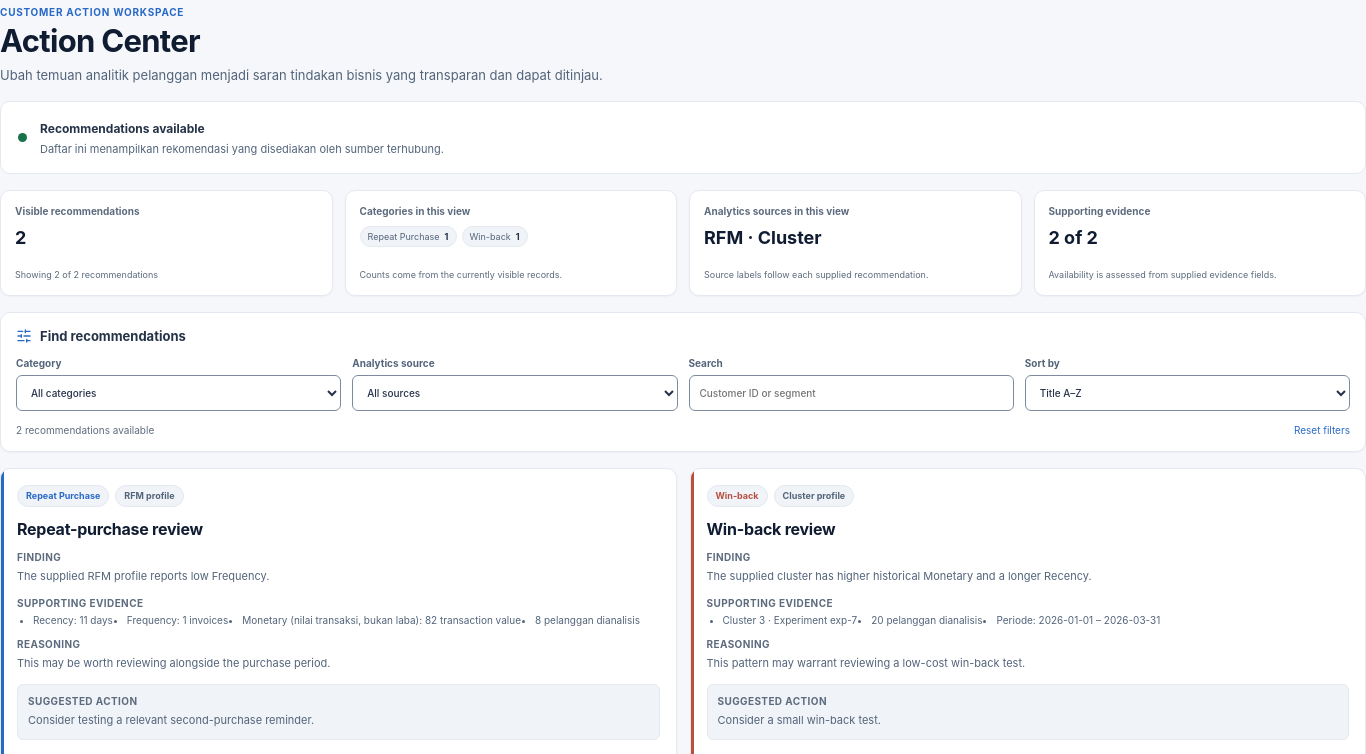
Test: Action Center page › filters by category and updates the visible summary counts
Expected: the heading "Win-back review" is shown, top-left (706, 519), bottom-right (835, 539)
Select "Repeat Purchase" in the dropdown named "Filter by category": point(179, 393) top-left (16, 375), bottom-right (341, 411)
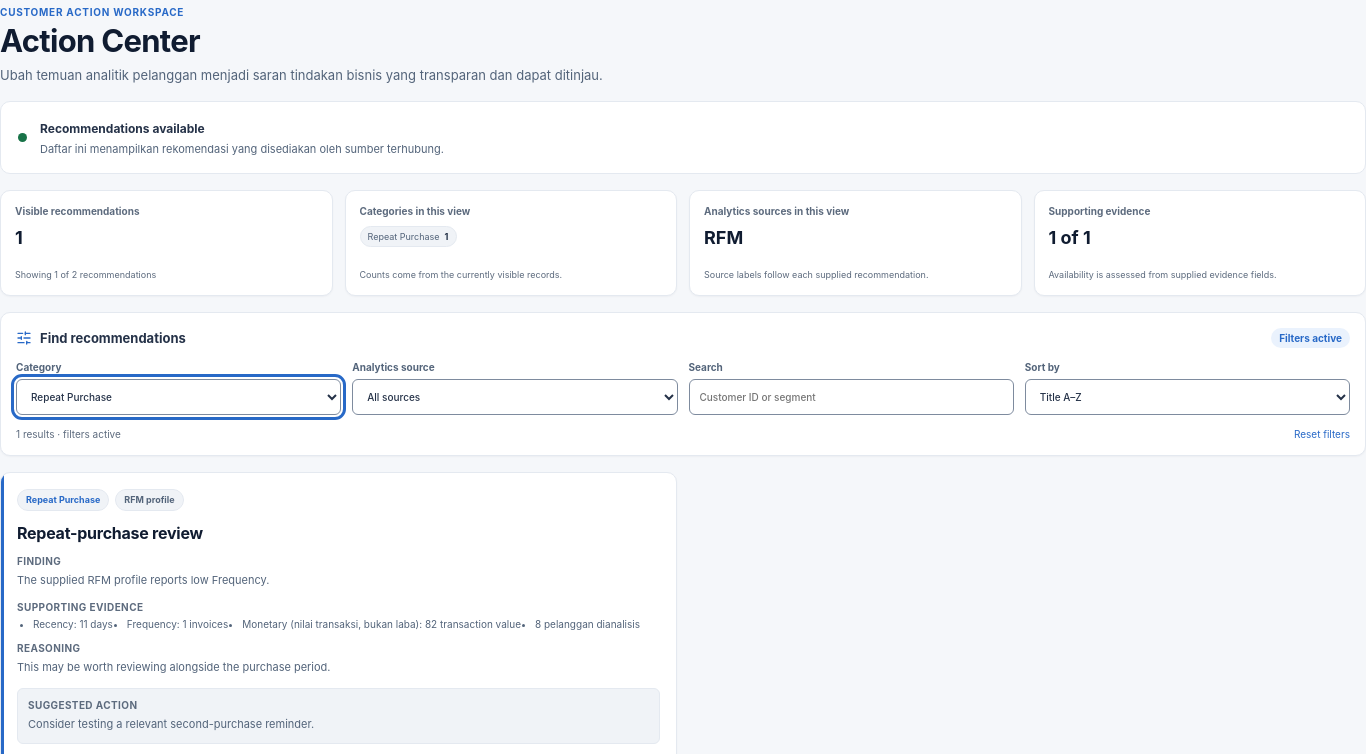
Expected: the heading "Repeat-purchase review" is shown, top-left (17, 523), bottom-right (203, 543)
Expected: the heading "Win-back review" is gone
Expected: the text "Showing 1 of 2 recommendations" is shown, top-left (15, 269), bottom-right (156, 280)
